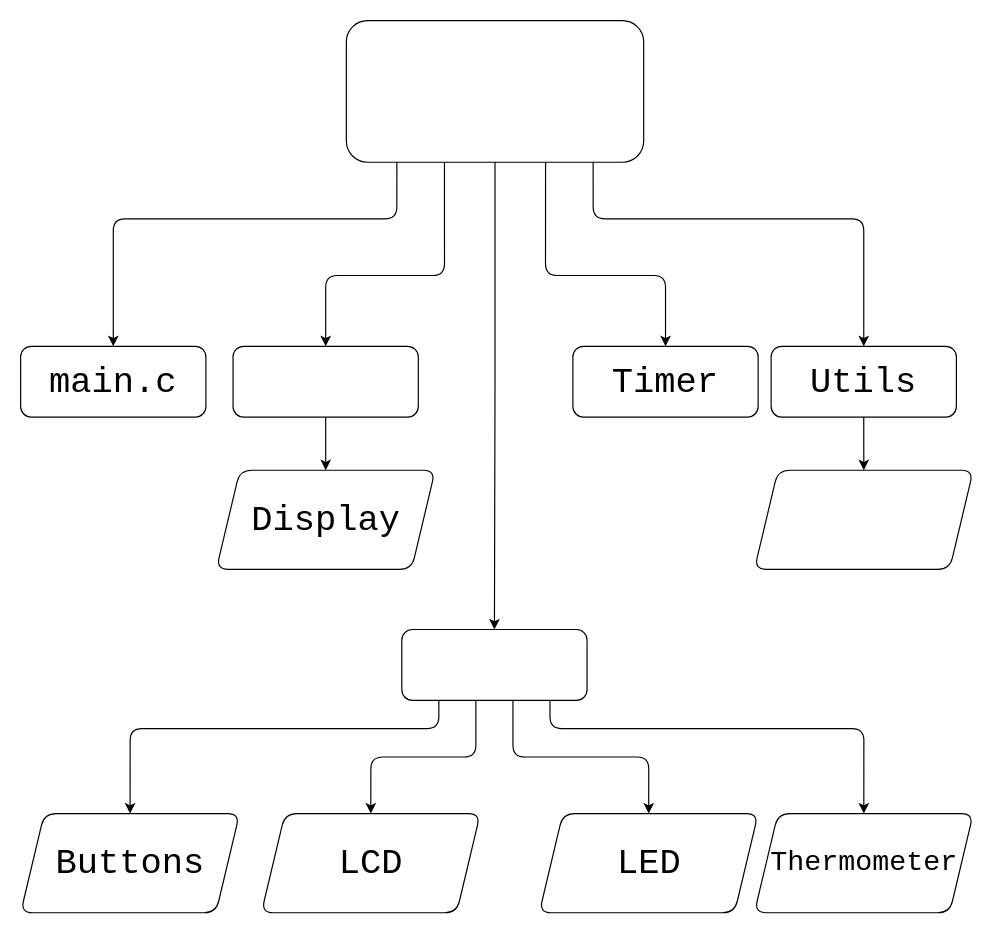
The diagram is 995 pixels wide and 933 high, and some of its shapes have lost their labels. Each missing label, with the centre of its shape:
"Clock" belongs at (325,381).
"Clock Modules" belongs at (494,90).
"Counter" belongs at (863,519).
"IO" belongs at (494,664).
